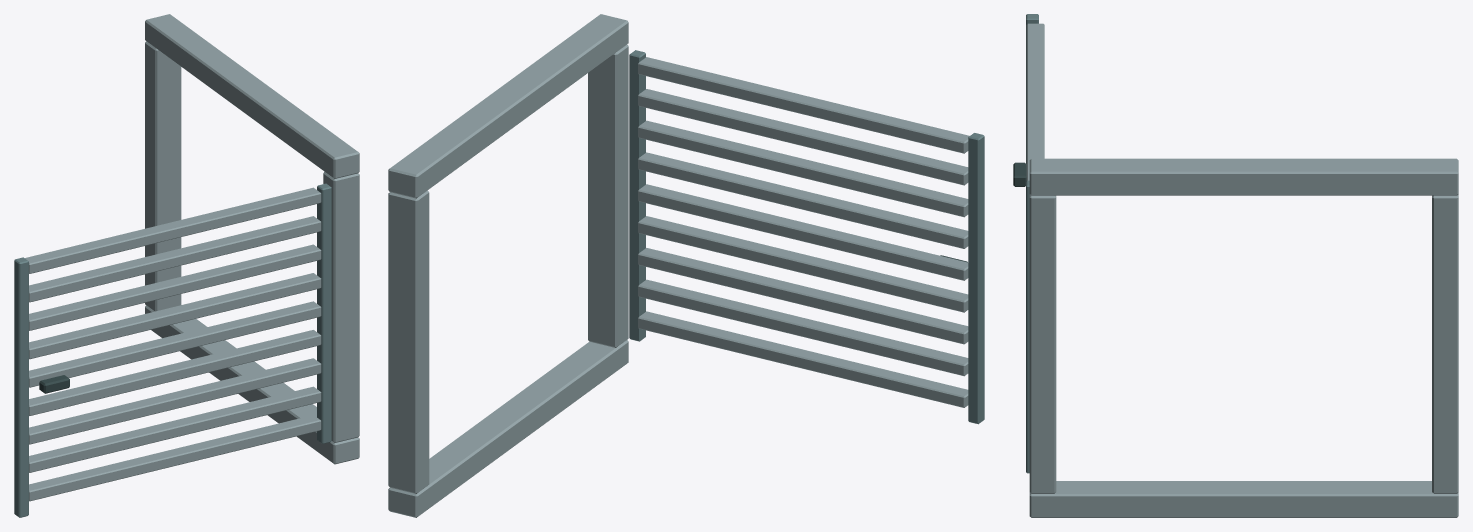
Rendered from Systems-VentAccessFrame.fbx.
3 renders of one model, left to right at view 1: azimuth 30°, elevation 25°; view 2: azimuth 150°, elevation 25°; view 3: azimuth 270°, elevation 25°, orthographic. The views are drawn at different scales.
Parts seen in each view (by area): view 1: Lintel, Left Jamb, Right Jamb, Grate Louver 09, Grate Louver 06, Grate Louver 02, Grate Louver 08, Grate Louver 03, Grate Louver 07, Grate Louver 01, Grate Louver 04, Grate Louver 05 (+4 smaller); view 2: Right Jamb, Left Jamb, Lintel, Flush Sill, Grate Louver 01, Grate Louver 07, Grate Louver 02, Grate Louver 03, Grate Louver 06, Grate Louver 08, Grate Louver 09, Grate Louver 05 (+3 smaller); view 3: Lintel, Flush Sill, Left Jamb, Right Jamb, Grate Louver 09, Grate Stile 1.
Boxes of the visible parts, box(x1,y1,x2,y2) form: Lintel: box(145, 14, 359, 178); Left Jamb: box(323, 171, 359, 442); Right Jamb: box(145, 41, 181, 311); Grate Louver 09: box(25, 187, 321, 273); Grate Louver 06: box(29, 273, 321, 359); Grate Louver 02: box(29, 386, 321, 472); Grate Louver 08: box(29, 216, 321, 302); Grate Louver 03: box(29, 358, 321, 444); Grate Louver 07: box(29, 244, 321, 330); Grate Louver 01: box(29, 415, 321, 501); Grate Louver 04: box(29, 330, 321, 415); Grate Louver 05: box(29, 301, 321, 387); Right Jamb: box(388, 190, 429, 493); Left Jamb: box(588, 44, 628, 347); Lintel: box(388, 14, 628, 198); Flush Sill: box(388, 340, 628, 517); Grate Louver 01: box(638, 311, 968, 407); Grate Louver 07: box(638, 120, 968, 217); Grate Louver 02: box(638, 279, 968, 376); Grate Louver 03: box(638, 248, 968, 344); Grate Louver 06: box(638, 152, 968, 248); Grate Louver 08: box(638, 89, 968, 185); Grate Louver 09: box(638, 57, 969, 153); Grate Louver 05: box(638, 184, 968, 280); Lintel: box(1029, 158, 1458, 195); Flush Sill: box(1029, 481, 1458, 517); Left Jamb: box(1029, 194, 1056, 493); Right Jamb: box(1432, 194, 1458, 493); Grate Louver 09: box(1026, 23, 1044, 180); Grate Stile 1: box(1026, 180, 1029, 473).
Size of the model in its own units: 1.43 by 1.22 by 1.42.
